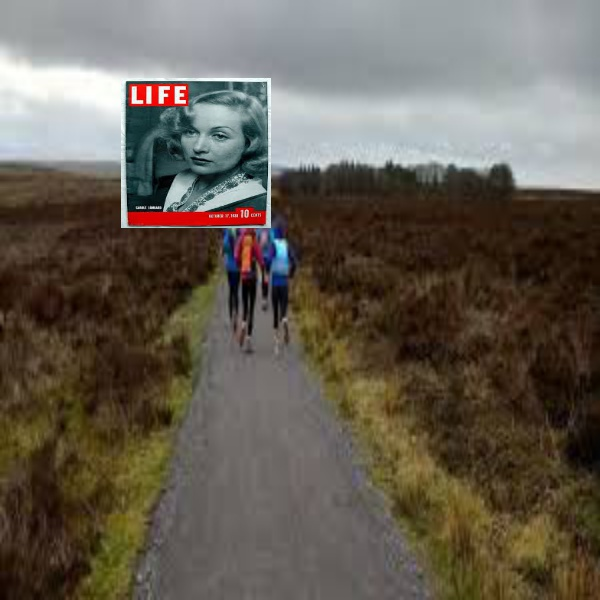time_cover: (120, 76, 280, 235)
